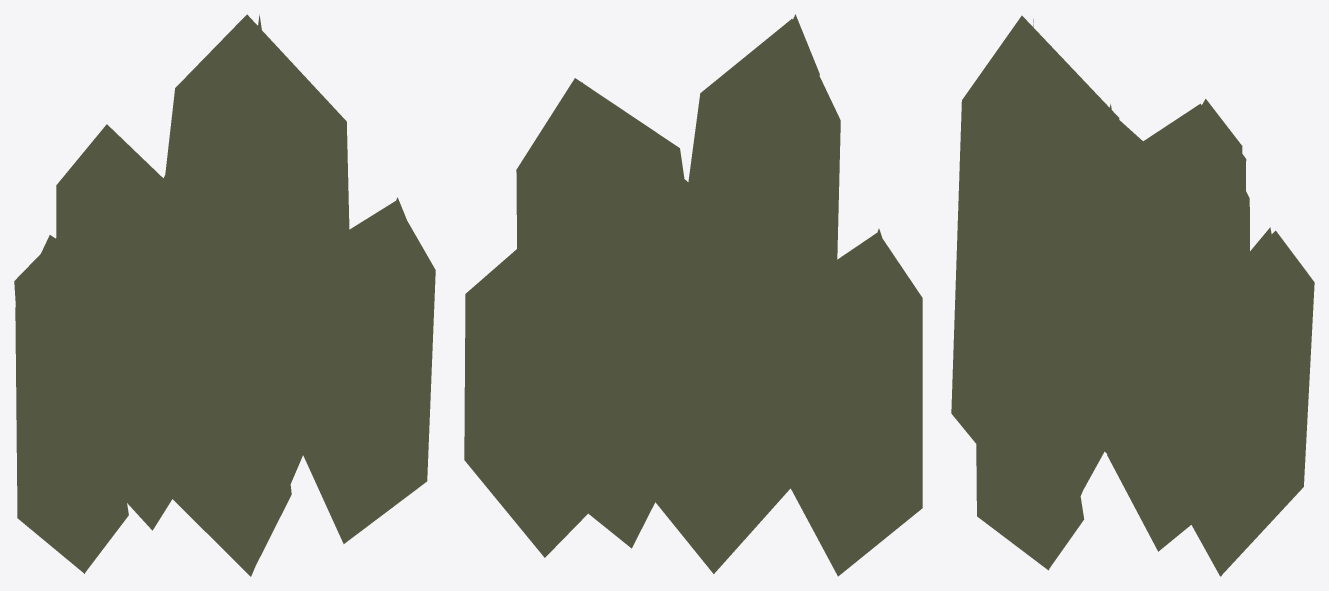
Rendered from SM_grass_03.fbx.
3 views of the same model, side by side, from view 1: azimuth 30°, elevation 25°; view 2: azimuth 150°, elevation 25°; view 3: azimuth 270°, elevation 25° (orthographic). The views are drawn at different scales.
Visible parts, largest first — view 1: SM_grass_03_LOD0; view 2: SM_grass_03_LOD0; view 3: SM_grass_03_LOD0.
Boxes of the visible parts, x1,y1,x2,y2 form: SM_grass_03_LOD0: (14, 14, 435, 576); SM_grass_03_LOD0: (464, 14, 922, 576); SM_grass_03_LOD0: (951, 15, 1314, 576).
Size of the model in its own units: 73.36 by 63.48 by 97.23.
